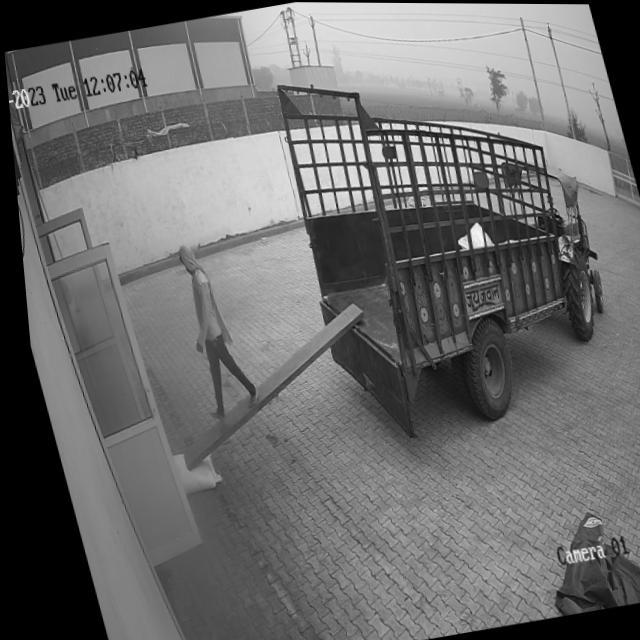sack: (163, 444, 215, 494)
